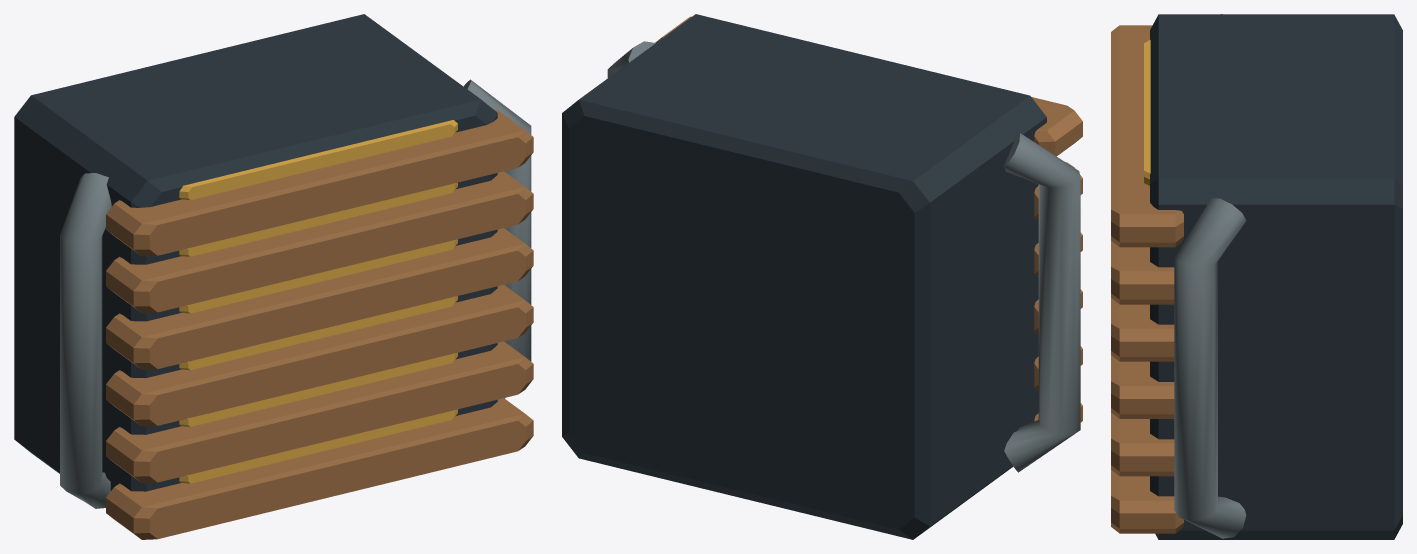
The model's file is boss_heat_exchanger.glb.
3 views of the same model, side by side, from view 1: azimuth 30°, elevation 25°; view 2: azimuth 150°, elevation 25°; view 3: azimuth 270°, elevation 25° (orthographic).
Visible parts, largest first — view 1: boss_heat_exchanger; view 2: boss_heat_exchanger; view 3: boss_heat_exchanger.
Part boxes in pixels (x1,y1,x2,y2): boss_heat_exchanger: (14,14,533,539); boss_heat_exchanger: (562,14,1082,539); boss_heat_exchanger: (1111,14,1402,539).
Size of the model in its own units: 2.23 by 1.64 by 1.2.
